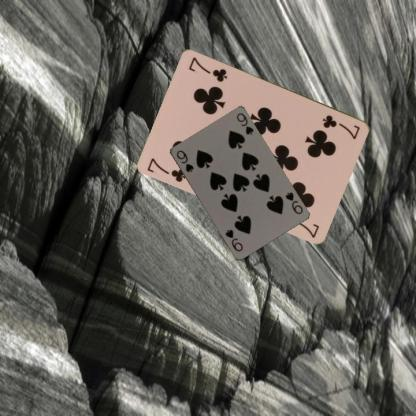7c: (145, 154, 188, 184), (320, 112, 362, 140)
9s: (282, 188, 304, 216), (174, 148, 195, 174)
